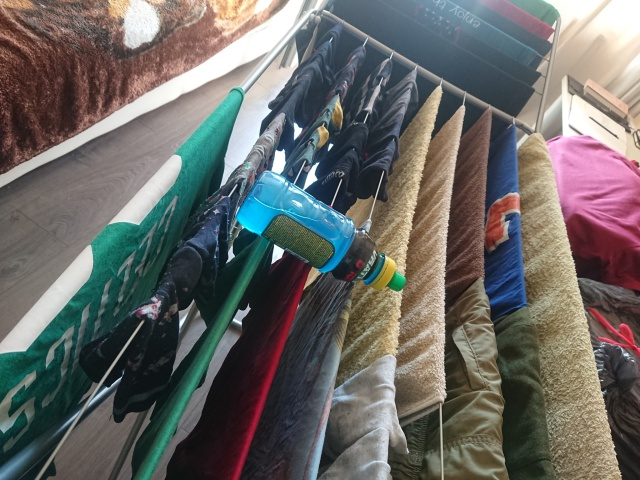Vindi Iso Sport Forest Strawberries 500mL: (233, 166, 407, 292)
